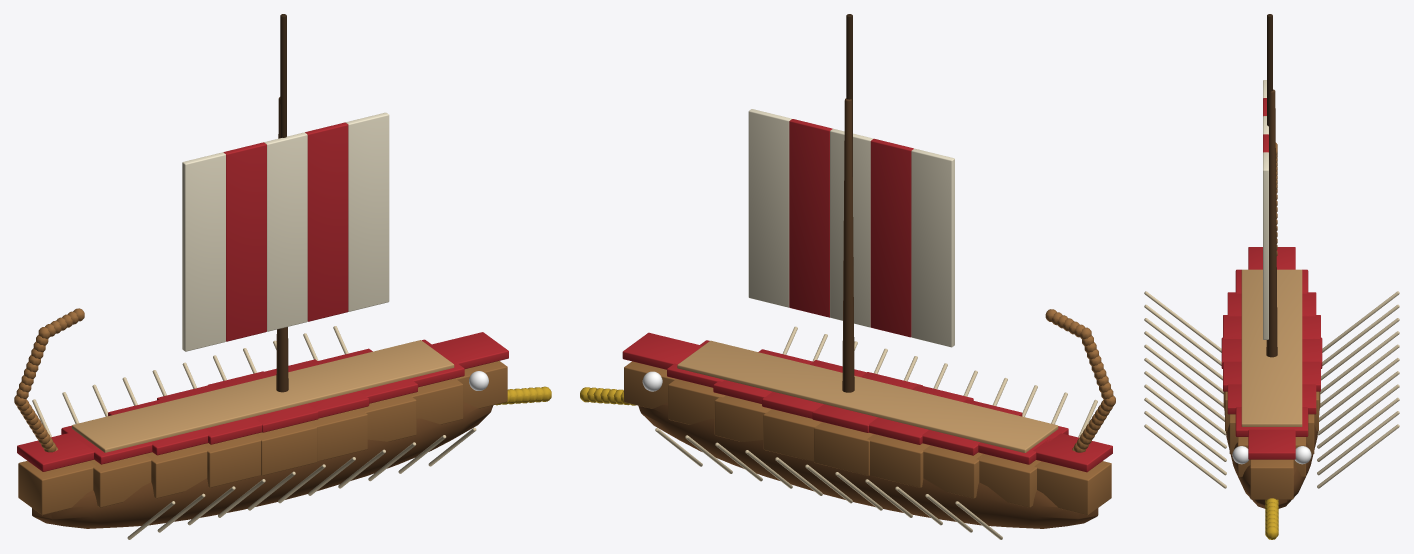
Rendered from navio_galera.glb.
3 views of the same model, side by side, from view 1: azimuth 30°, elevation 25°; view 2: azimuth 150°, elevation 25°; view 3: azimuth 270°, elevation 25° (orthographic). The views are drawn at different scales.
Parts seen in each view (by area): view 1: navio_galera; view 2: navio_galera; view 3: navio_galera.
Part boxes in pixels (bbox=[...]): navio_galera: bbox=[14, 14, 551, 539]; navio_galera: bbox=[580, 14, 1115, 539]; navio_galera: bbox=[1144, 14, 1399, 539].
Size of the model in its own units: 5.52 by 4.72 by 2.52.
